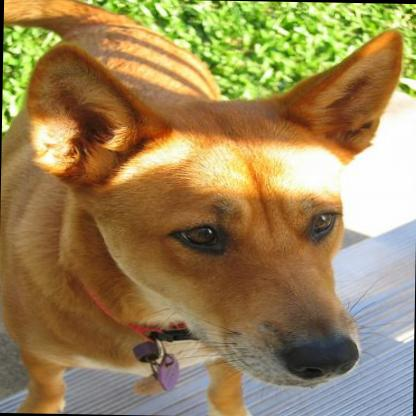dingo: (0, 0, 406, 416)
